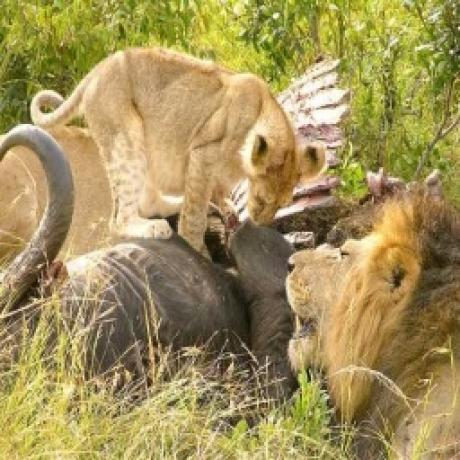Lion: (33, 46, 330, 249), (282, 185, 460, 460)
